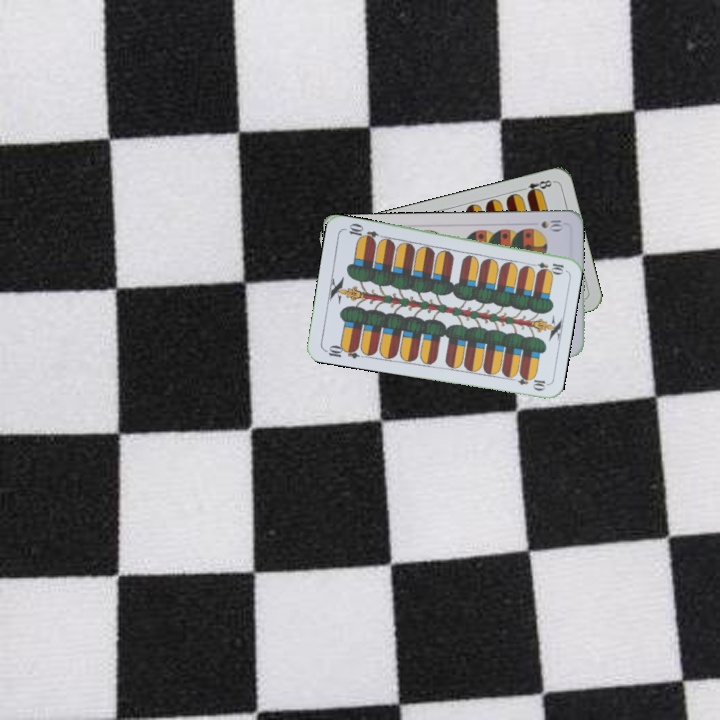E10: (321, 341, 361, 361), (526, 258, 566, 275)
E8: (516, 176, 556, 198)
S10: (537, 215, 566, 233)
